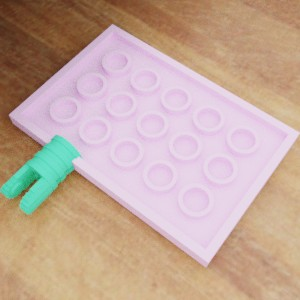lego: (8, 24, 300, 267), (0, 134, 82, 214)
